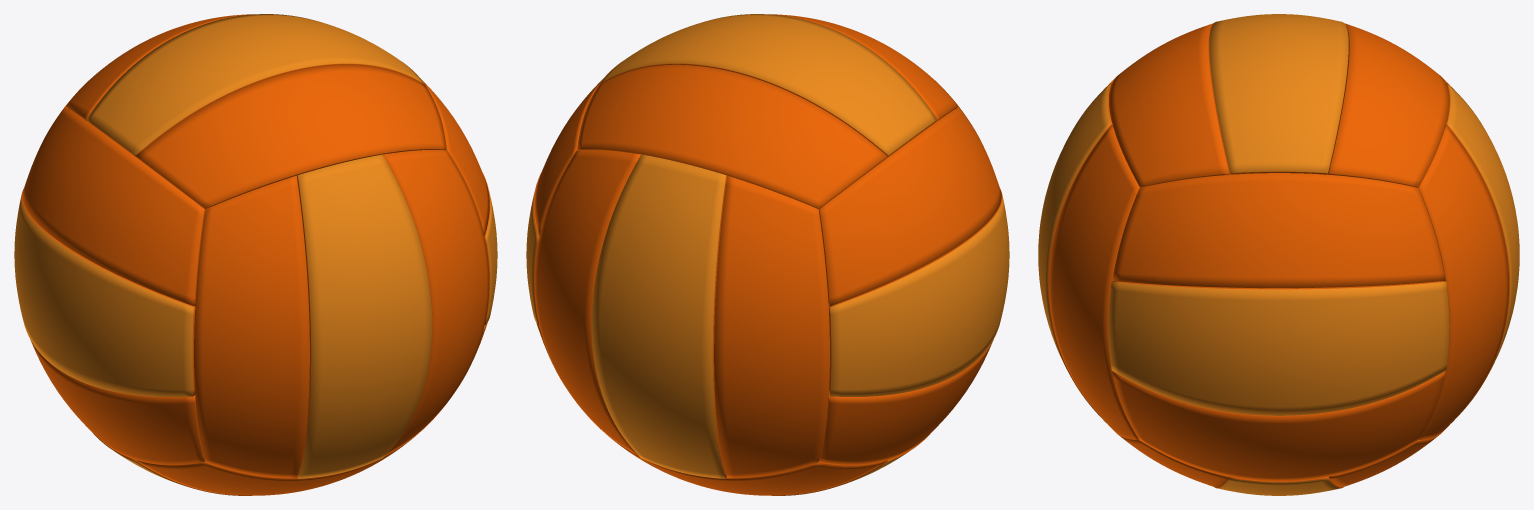
Rendered from pelota.fbx.
The picture shows the model from 3 angles, left to right: view 1: azimuth 30°, elevation 25°; view 2: azimuth 150°, elevation 25°; view 3: azimuth 270°, elevation 25°; orthographic projection.
Visible parts, largest first — view 1: VolleyBall; view 2: VolleyBall; view 3: VolleyBall.
Part boxes in pixels (box(x1,y1,x2,y2)): VolleyBall: box(14, 14, 497, 495); VolleyBall: box(526, 14, 1009, 495); VolleyBall: box(1038, 14, 1519, 495).
Bounding box in the file's own units: 64.97 × 64.97 × 64.97.
